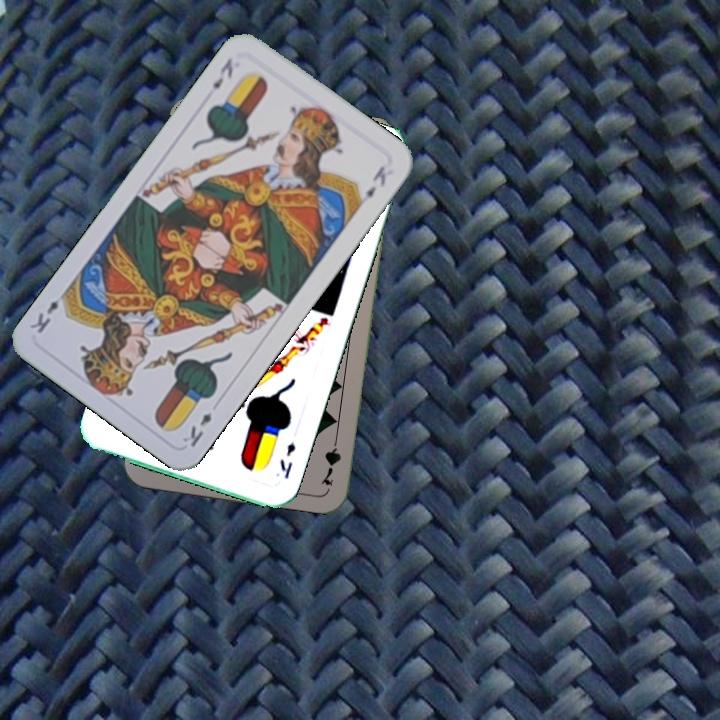EK: (178, 408, 214, 450), (208, 53, 236, 92), (275, 438, 299, 481)
G7: (317, 429, 344, 489)
